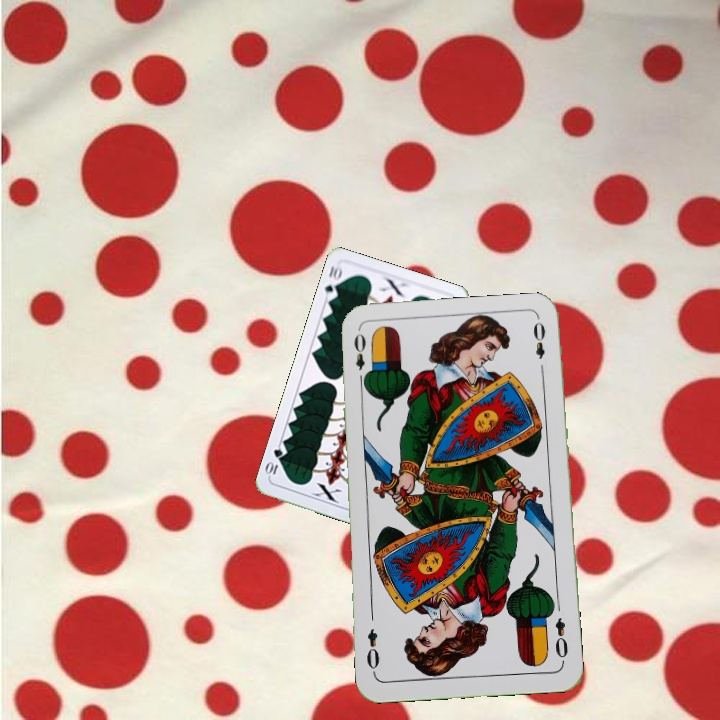EO: (350, 329, 371, 387), (551, 614, 571, 666)
G10: (321, 261, 345, 303)
